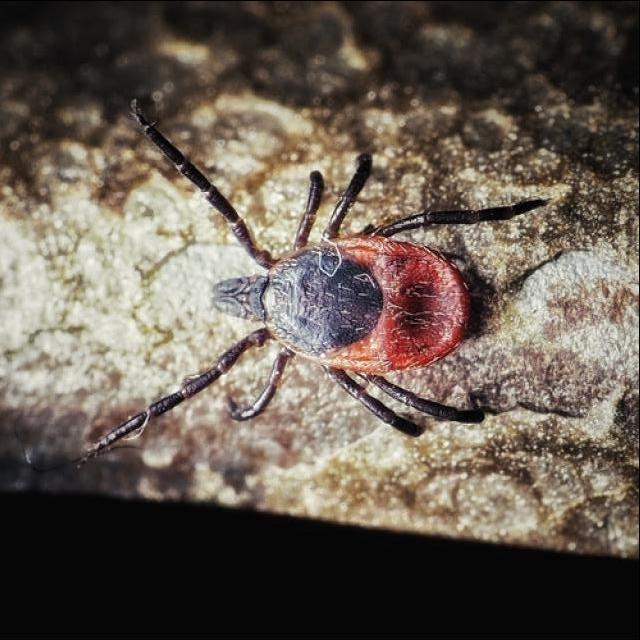Ixodes Ricinus-F: (79, 101, 549, 466)
